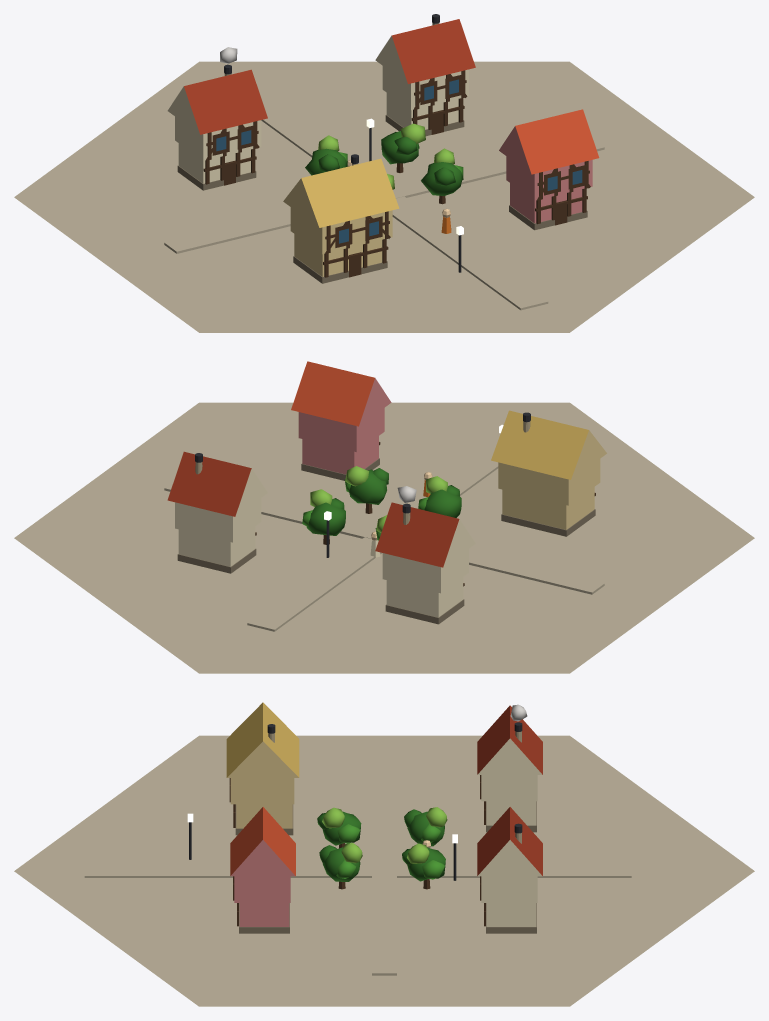
File: district_neighborhood_1.fbx
The picture shows the model from 3 angles, top to bottom: view 1: azimuth 30°, elevation 25°; view 2: azimuth 150°, elevation 25°; view 3: azimuth 270°, elevation 25°; orthographic projection.
Parts seen in each view (by area): view 1: district_neighborhood_1; view 2: district_neighborhood_1; view 3: district_neighborhood_1.
Part boxes in pixels (x1=…): district_neighborhood_1: x1=14, y1=14, x2=754, y2=332; district_neighborhood_1: x1=14, y1=361, x2=754, y2=673; district_neighborhood_1: x1=14, y1=702, x2=754, y2=1006.
Bounding box in the file's own units: 182 × 38.52 × 210.
